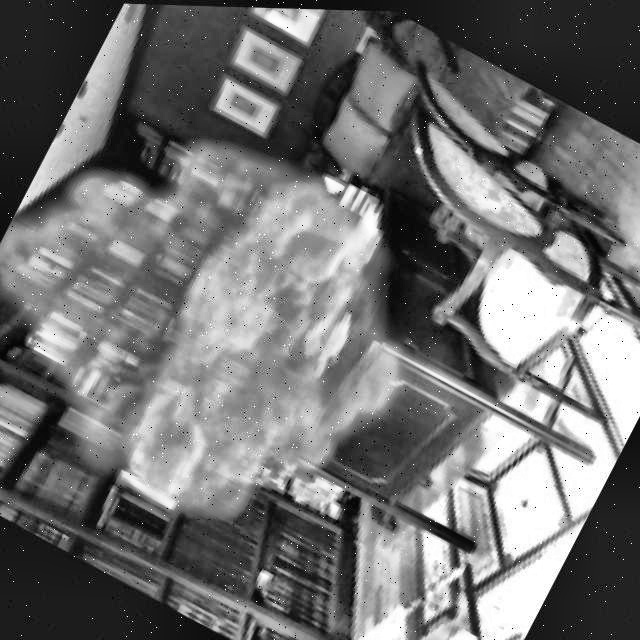Smoke: (0, 44, 481, 594)
